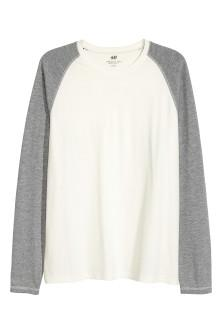teeshirt: (7, 41, 222, 295)
